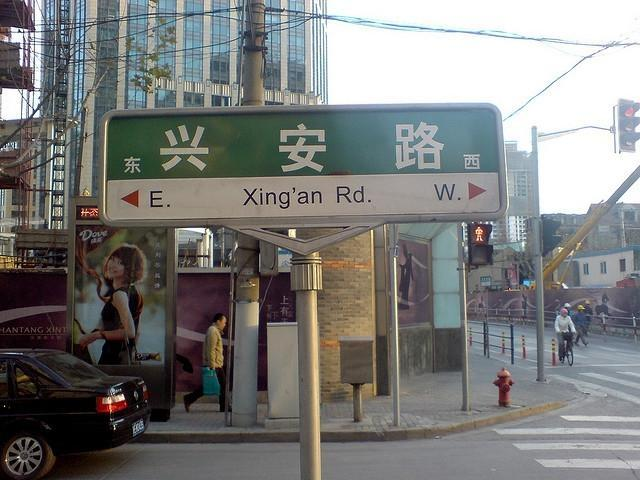bicycle: (562, 331, 576, 367)
car: (1, 347, 151, 475)
